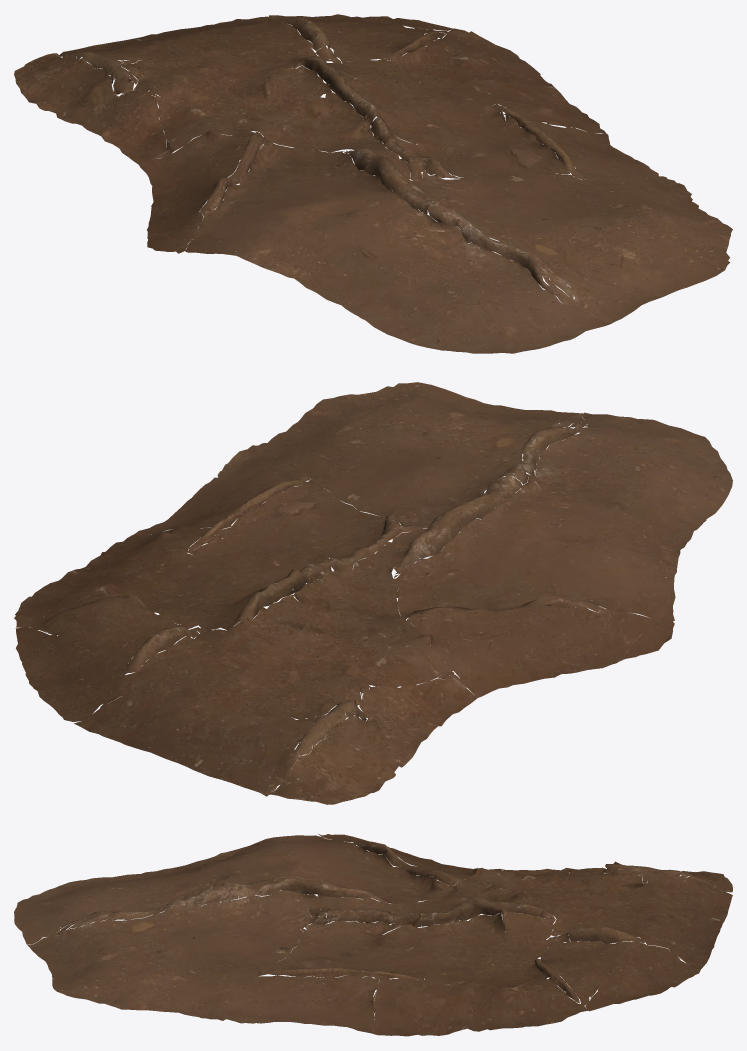
The model's file is root-cluster-02-a.glb.
3 views of the same model, one above another, from view 1: azimuth 30°, elevation 25°; view 2: azimuth 150°, elevation 25°; view 3: azimuth 270°, elevation 25° (orthographic). The views are drawn at different scales.
Parts seen in each view (by area): view 1: root_cluster_02_a; view 2: root_cluster_02_a; view 3: root_cluster_02_a.
Part boxes in pixels (left/top/right/bottom): root_cluster_02_a: left=14, top=14, right=732, bottom=353; root_cluster_02_a: left=14, top=382, right=732, bottom=804; root_cluster_02_a: left=14, top=834, right=732, bottom=1036.
Size of the model in its own units: 1.45 by 0.1929 by 2.28.
Materials: 1 (1 with a texture image).
